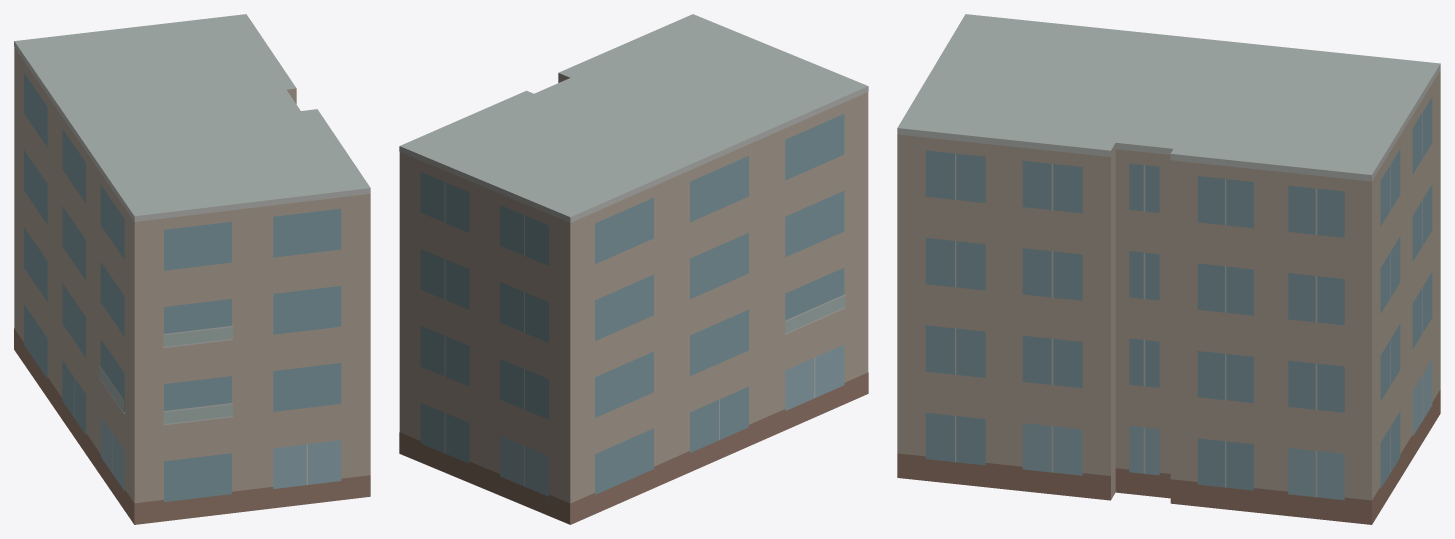
The model's file is survey-upis-32828596.glb.
The picture shows the model from 3 angles, left to right: view 1: azimuth 30°, elevation 25°; view 2: azimuth 150°, elevation 25°; view 3: azimuth 270°, elevation 25°; orthographic projection. The views are drawn at different scales.
Visible parts, largest first — view 1: survey-upis-32828596.tmp; view 2: survey-upis-32828596.tmp; view 3: survey-upis-32828596.tmp.
Boxes of the visible parts, bbox=[...] form: survey-upis-32828596.tmp: bbox=[14, 14, 370, 524]; survey-upis-32828596.tmp: bbox=[399, 14, 868, 524]; survey-upis-32828596.tmp: bbox=[897, 14, 1440, 524].
Size of the model in its own units: 13.1 by 13.25 by 18.66.
